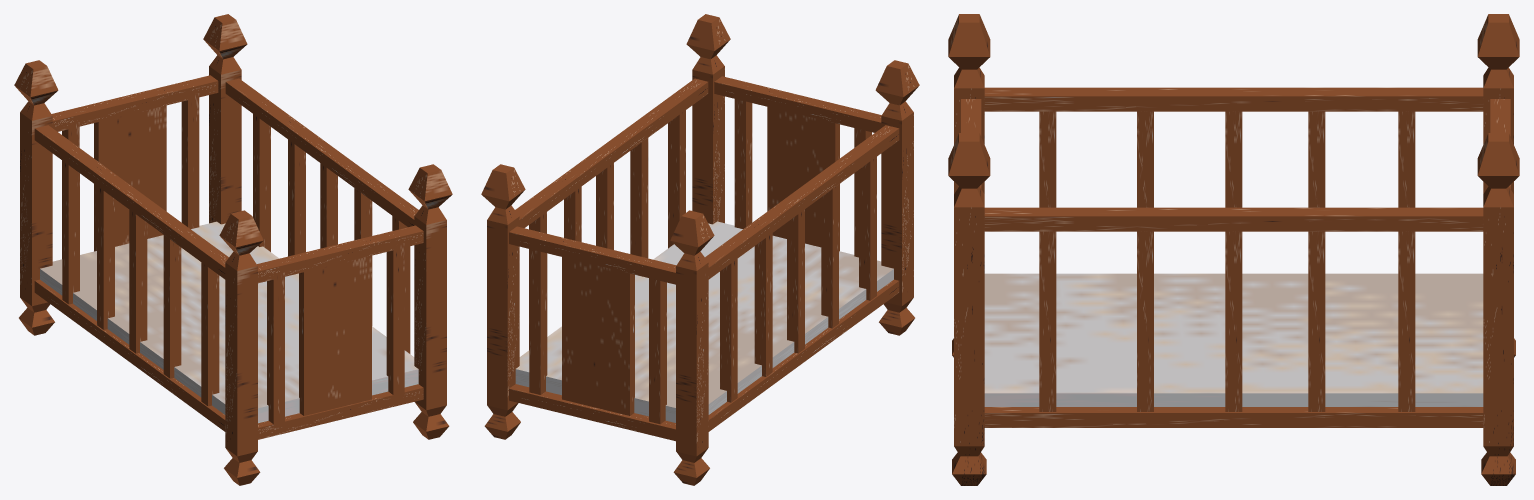
File: Crib.fbx
3 views of the same model, side by side, from view 1: azimuth 30°, elevation 25°; view 2: azimuth 150°, elevation 25°; view 3: azimuth 270°, elevation 25° (orthographic). The views are drawn at different scales.
Parts seen in each view (by area): view 1: Cube; view 2: Cube; view 3: Cube.
Part boxes in pixels (<box>): Cube: <box>14,14,452,485</box>; Cube: <box>481,14,919,485</box>; Cube: <box>948,14,1519,485</box>.
Size of the model in its own units: 121 by 142 by 214.
1 material, 1 textured.
